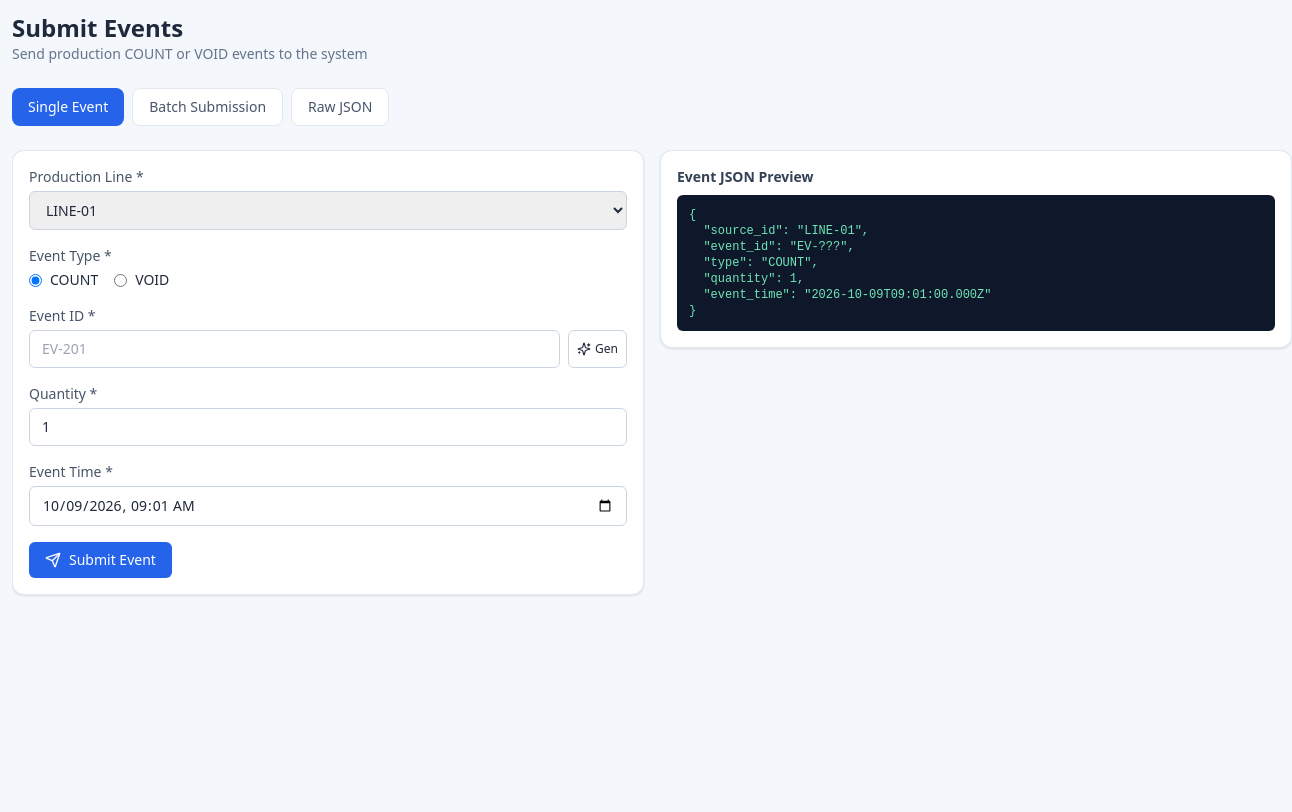
Test: SubmitEvents › COUNT submission sends correct JSON
Type "EV-500" into the field with placeholder "EV-201" at (295, 349), box [29, 330, 560, 368]
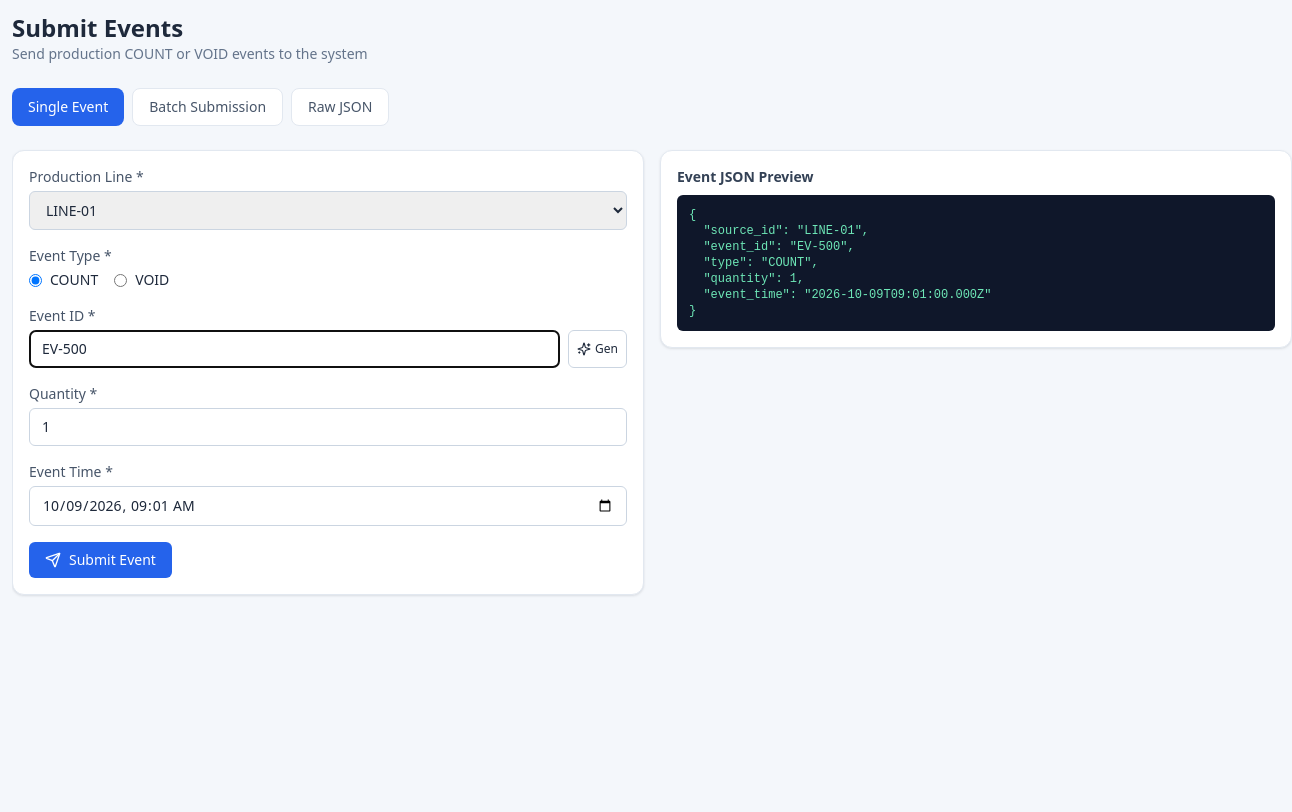
Replace the text in the number field with "5" at (328, 427), box [29, 408, 627, 446]
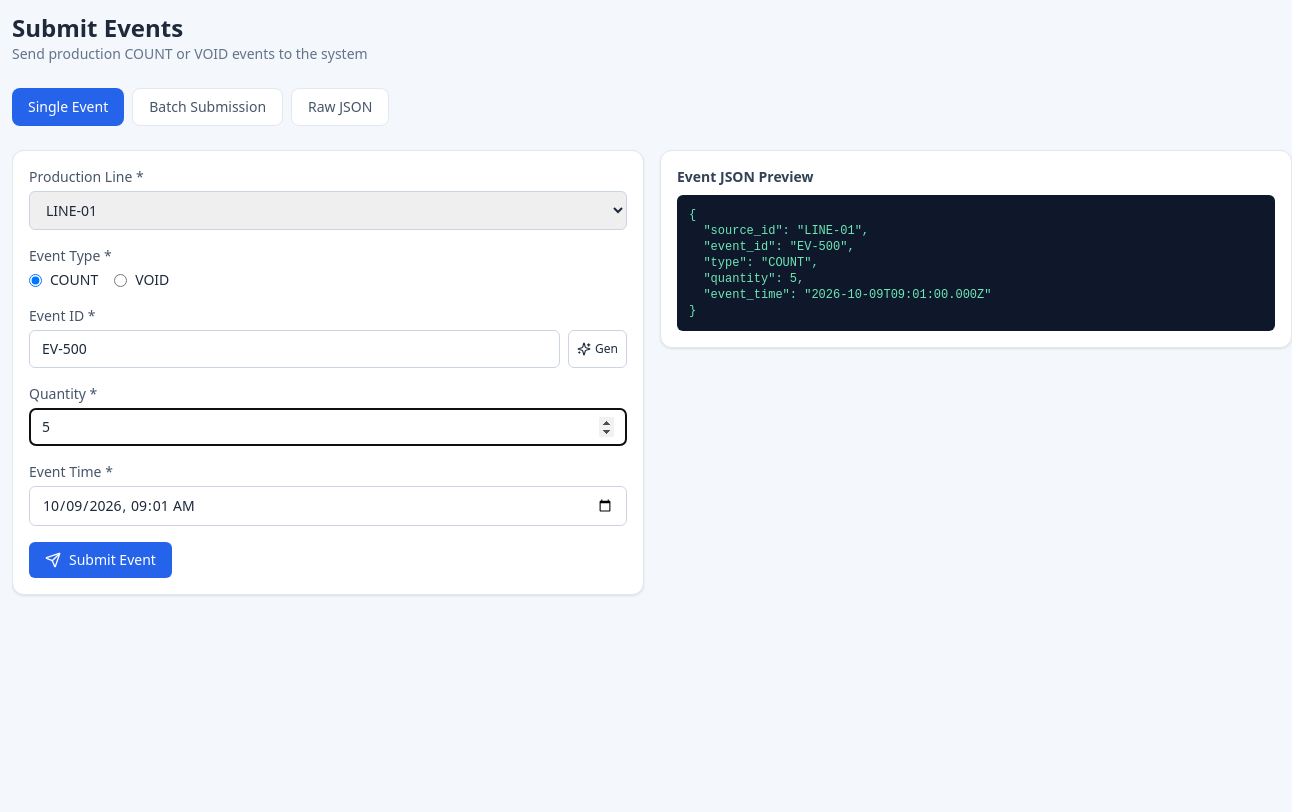
Click the button "Submit Event" at (100, 560), box [29, 542, 172, 578]
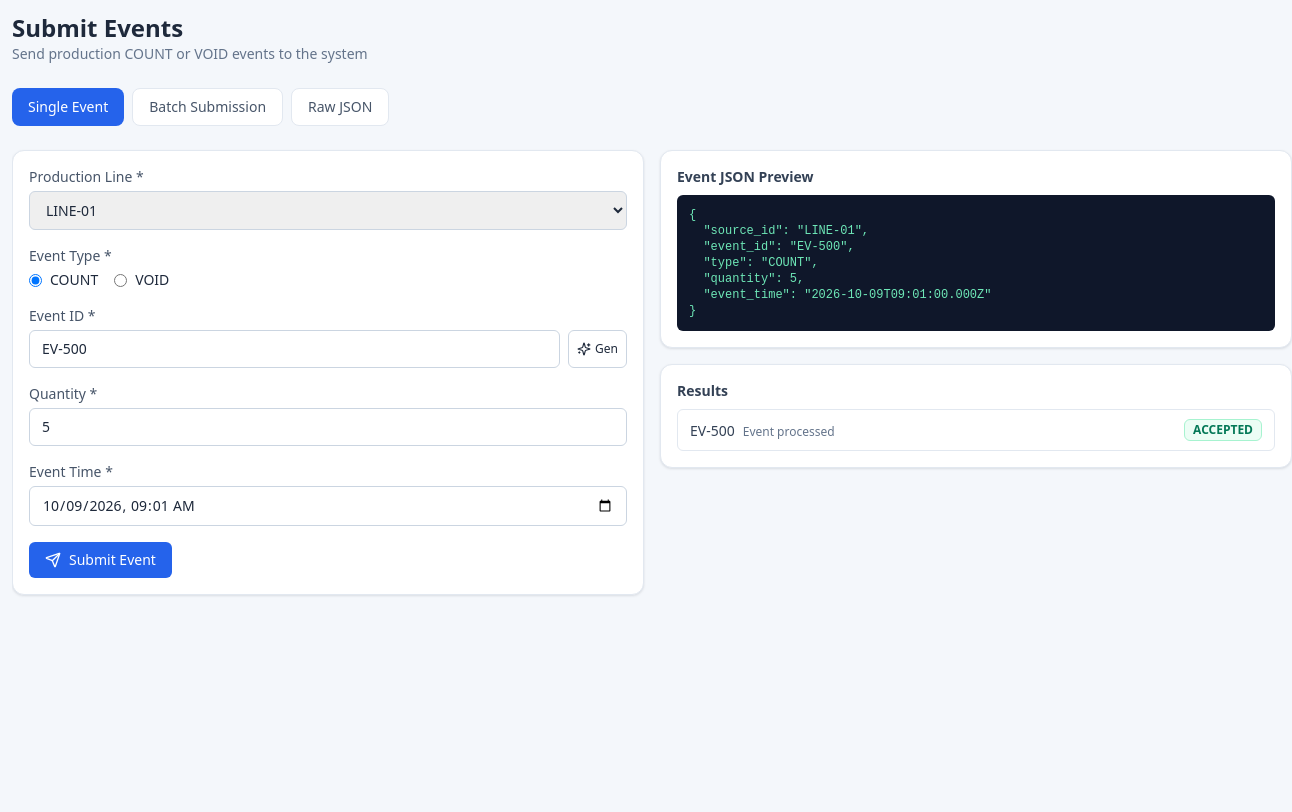
Expected: the text "ACCEPTED" is shown, [1184, 419, 1262, 441]
